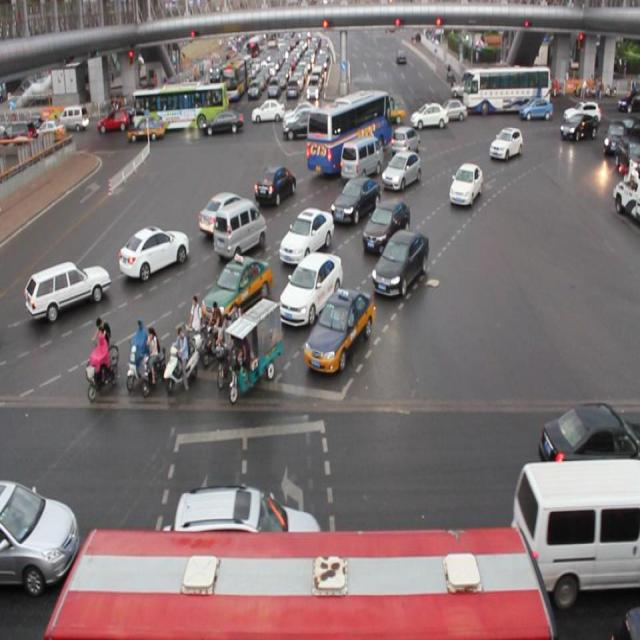car: (169, 483, 322, 561), (1, 474, 78, 590), (536, 400, 640, 477), (302, 288, 374, 375), (200, 252, 272, 332), (25, 261, 109, 323), (278, 250, 343, 326), (371, 229, 428, 296), (119, 226, 190, 278), (279, 209, 334, 264), (330, 173, 379, 224), (362, 200, 410, 250), (199, 190, 254, 231), (253, 166, 297, 205), (380, 150, 421, 191), (447, 163, 481, 207), (488, 128, 522, 162), (391, 127, 422, 155)
truck: (508, 458, 640, 605), (215, 199, 268, 263), (338, 138, 382, 184)
van: (47, 520, 553, 640), (307, 90, 393, 174)
